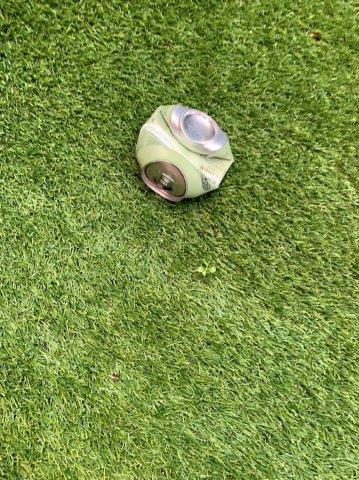kaleng: (137, 106, 233, 201)
